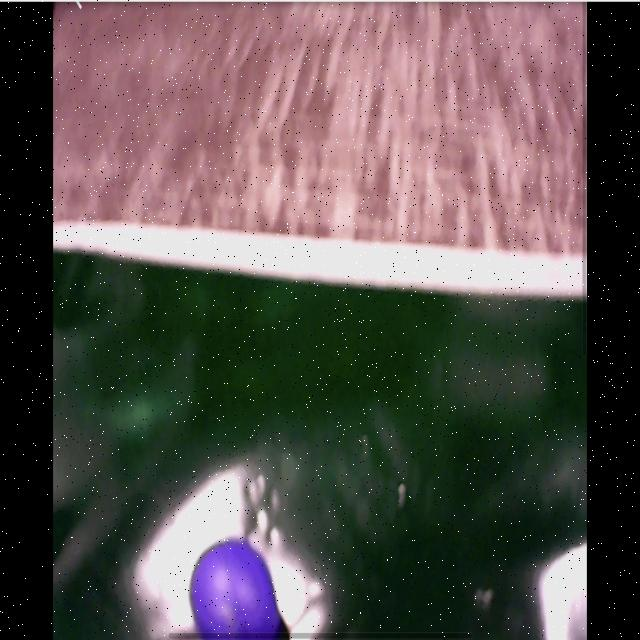ball: (190, 539, 277, 640)
